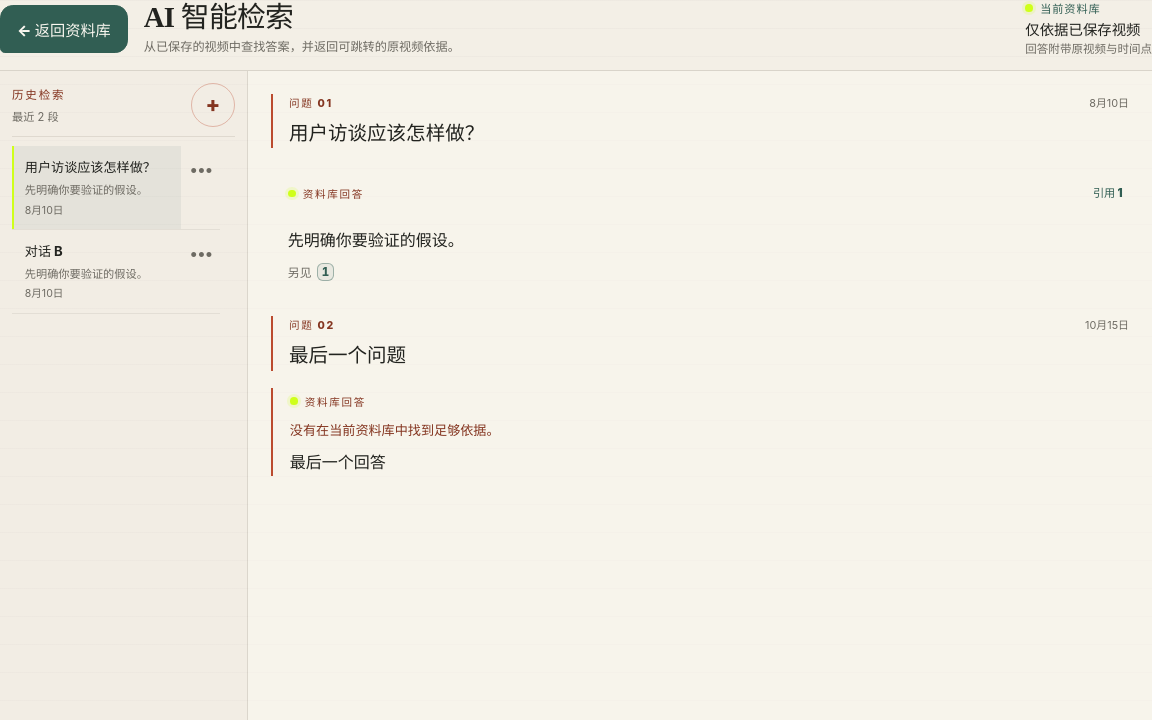
Test: AI search chat page › reopens A → B → A and the selected row without pulling back on background refetch
Click the button "对话 B 先明确你要验证的假设。 8月10日": (97, 271) x1=12 y1=230 x2=181 y2=313
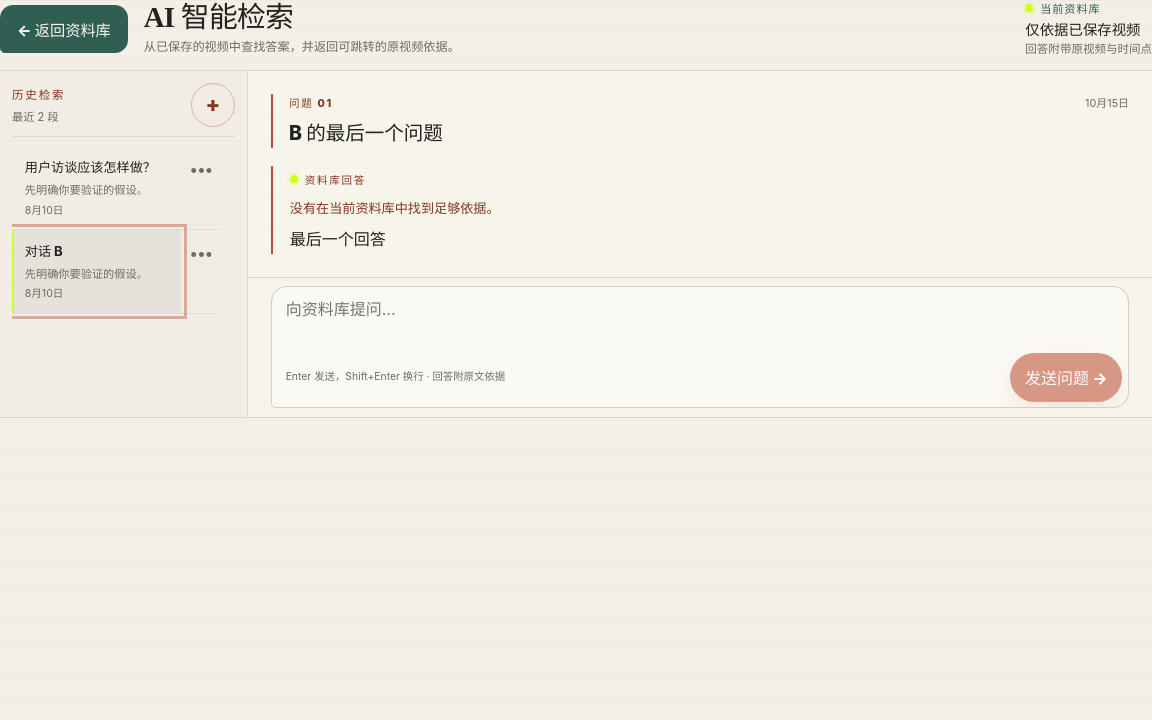
Now the text box labelled "向资料库提问" is enabled, box x1=272 y1=287 x2=1128 y2=345
Click the button "用户访谈应该怎样做？ 先明确你要验证的假设。 8月10日": (97, 188) x1=12 y1=146 x2=181 y2=229
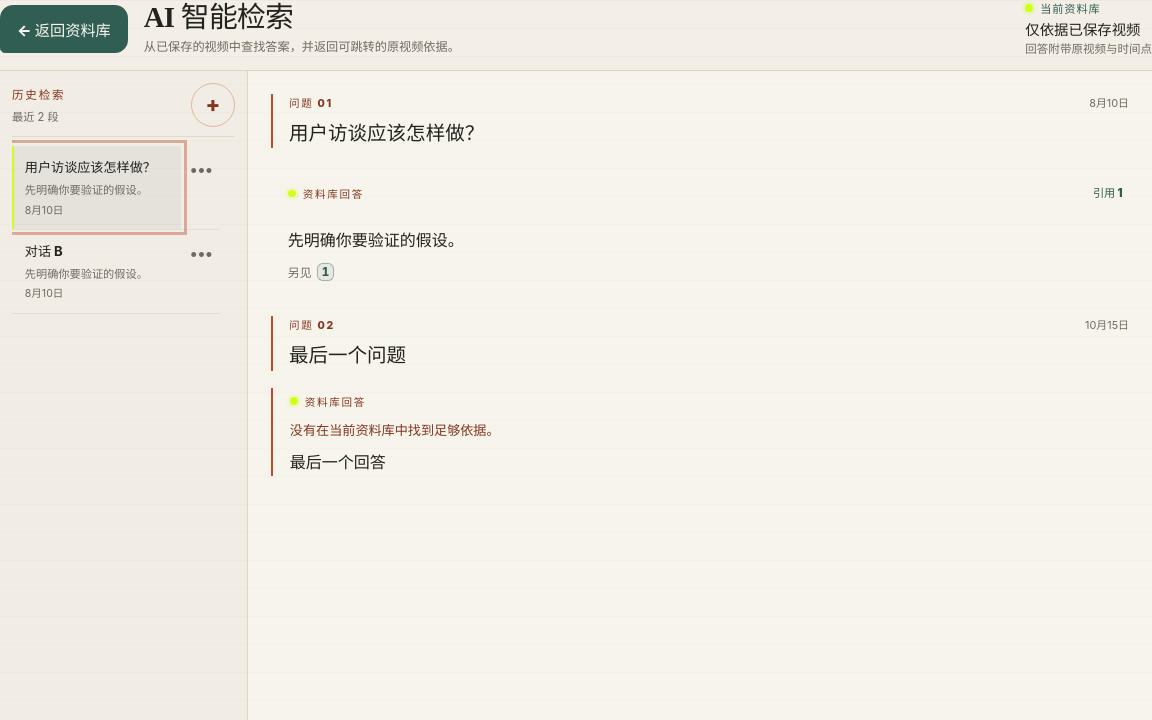
Click the button "用户访谈应该怎样做？ 先明确你要验证的假设。 8月10日": (97, 188) x1=12 y1=146 x2=181 y2=229
(page scrolled)
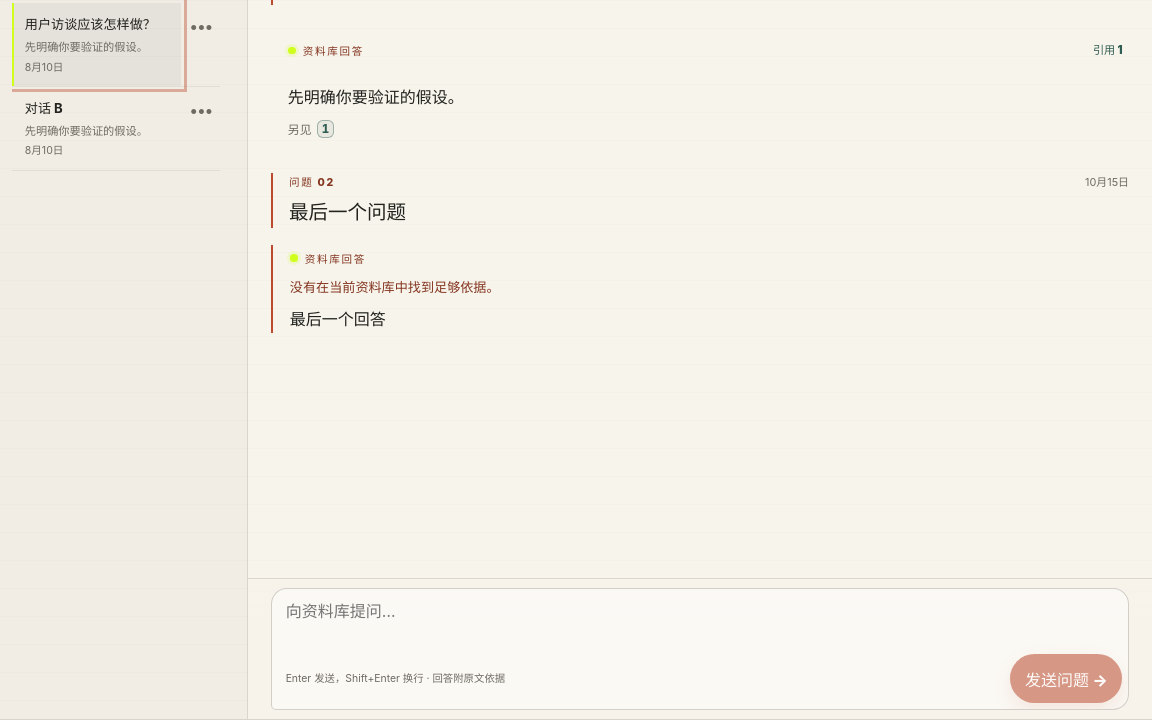
Now the text box labelled "向资料库提问" is enabled, box x1=272 y1=589 x2=1128 y2=647
